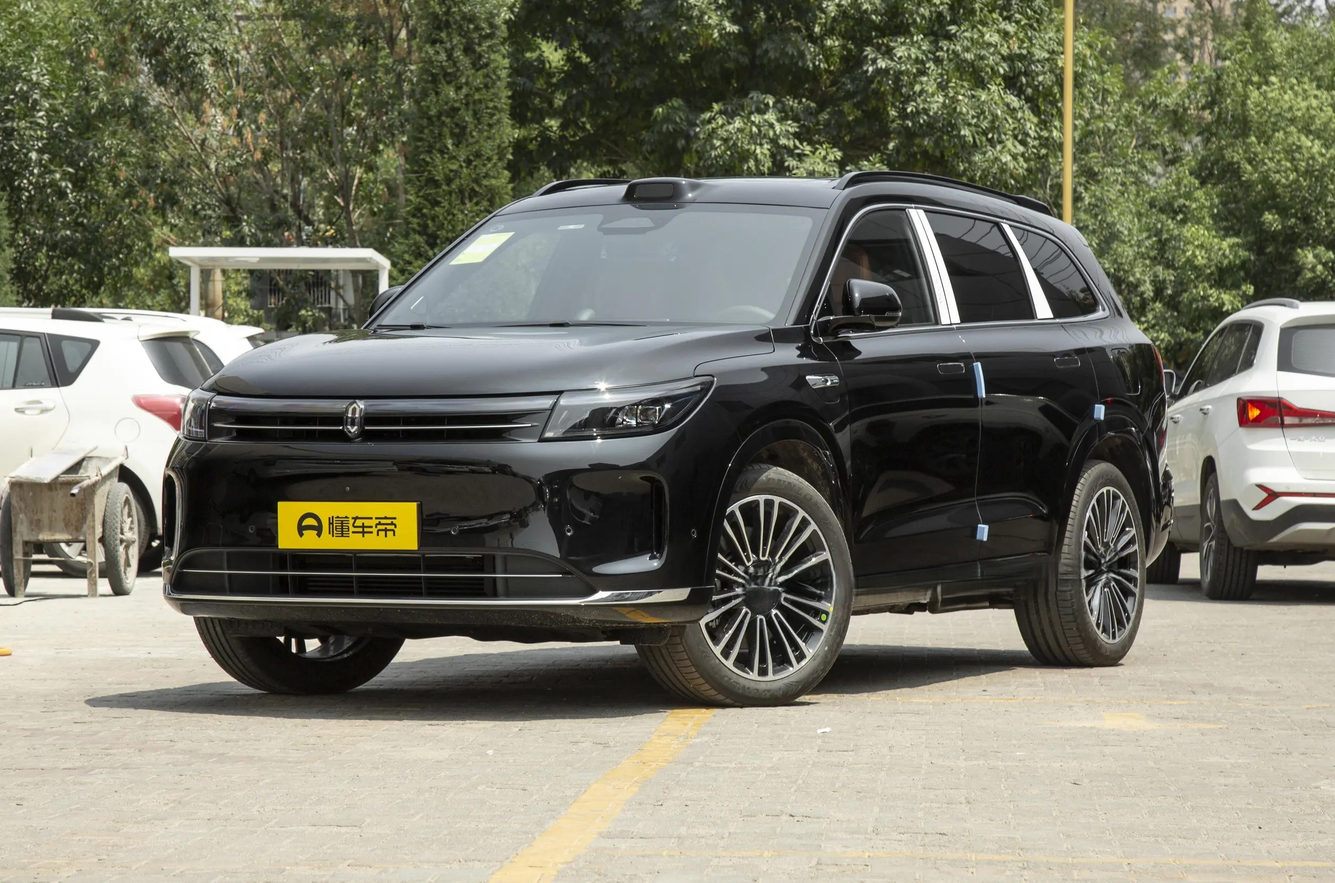AITO: (344, 401, 361, 436)
